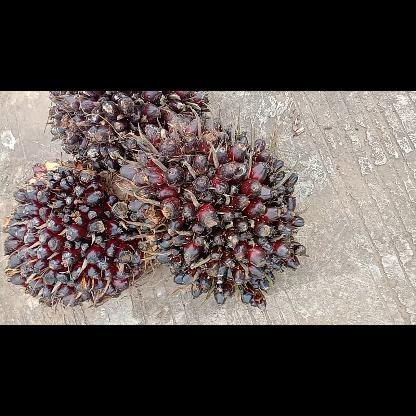TBS mentah: (117, 116, 310, 312), (2, 157, 160, 309), (44, 90, 214, 172)
